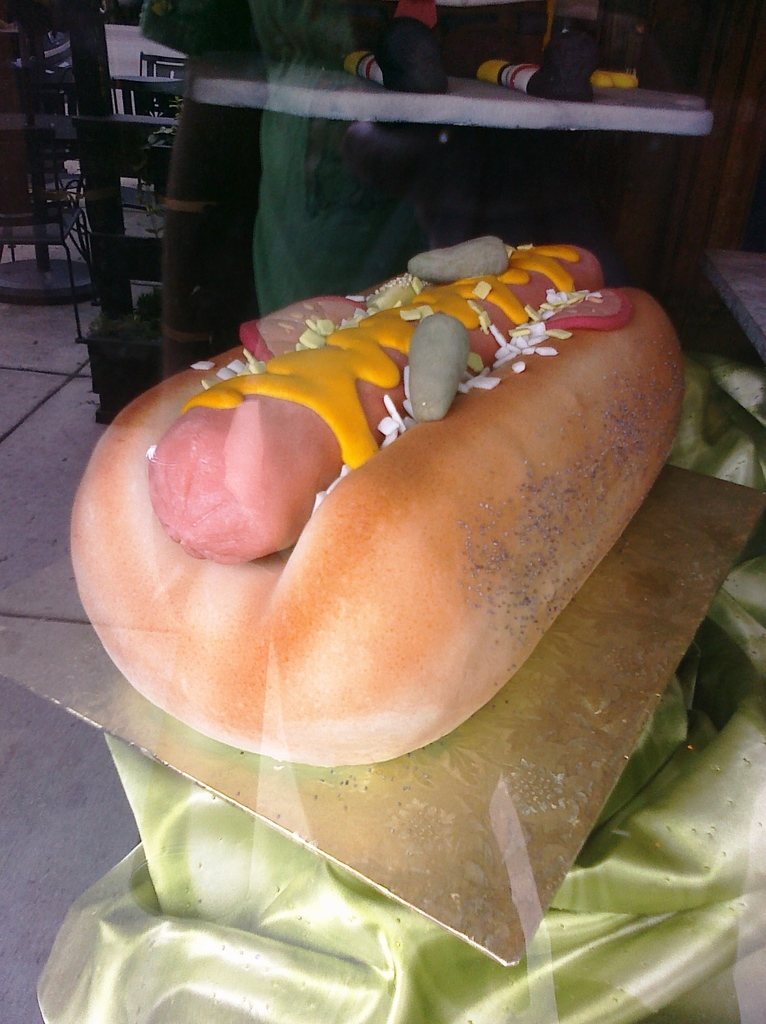hot_dog: (49, 229, 672, 776)
